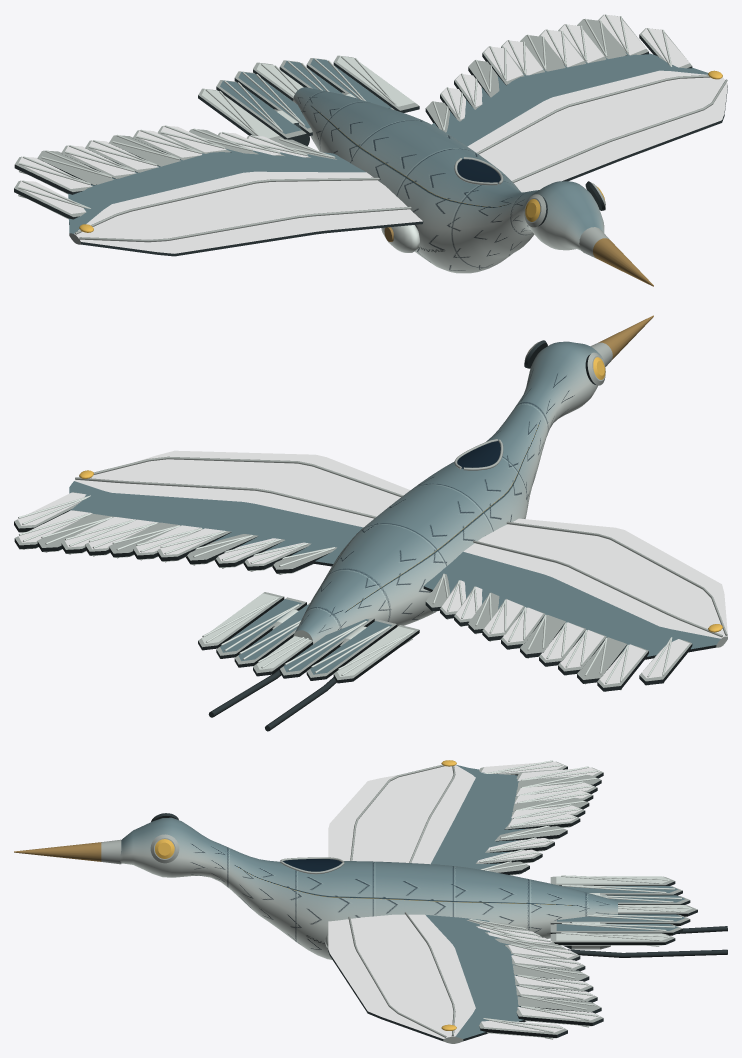
File: egret.glb
3 views of the same model, one above another, from view 1: azimuth 30°, elevation 25°; view 2: azimuth 150°, elevation 25°; view 3: azimuth 270°, elevation 25° (orthographic). The views are drawn at different scales.
Parts seen in each view (by area): view 1: egret_hull; view 2: egret_hull; view 3: egret_hull.
Part boxes in pixels (bbox=[...]): egret_hull: bbox=[14, 14, 727, 286]; egret_hull: bbox=[14, 315, 727, 731]; egret_hull: bbox=[14, 760, 727, 1043].
Bounding box in the file's own units: 57.92 × 13.44 × 64.
Materials: 1 (1 with a texture image).
